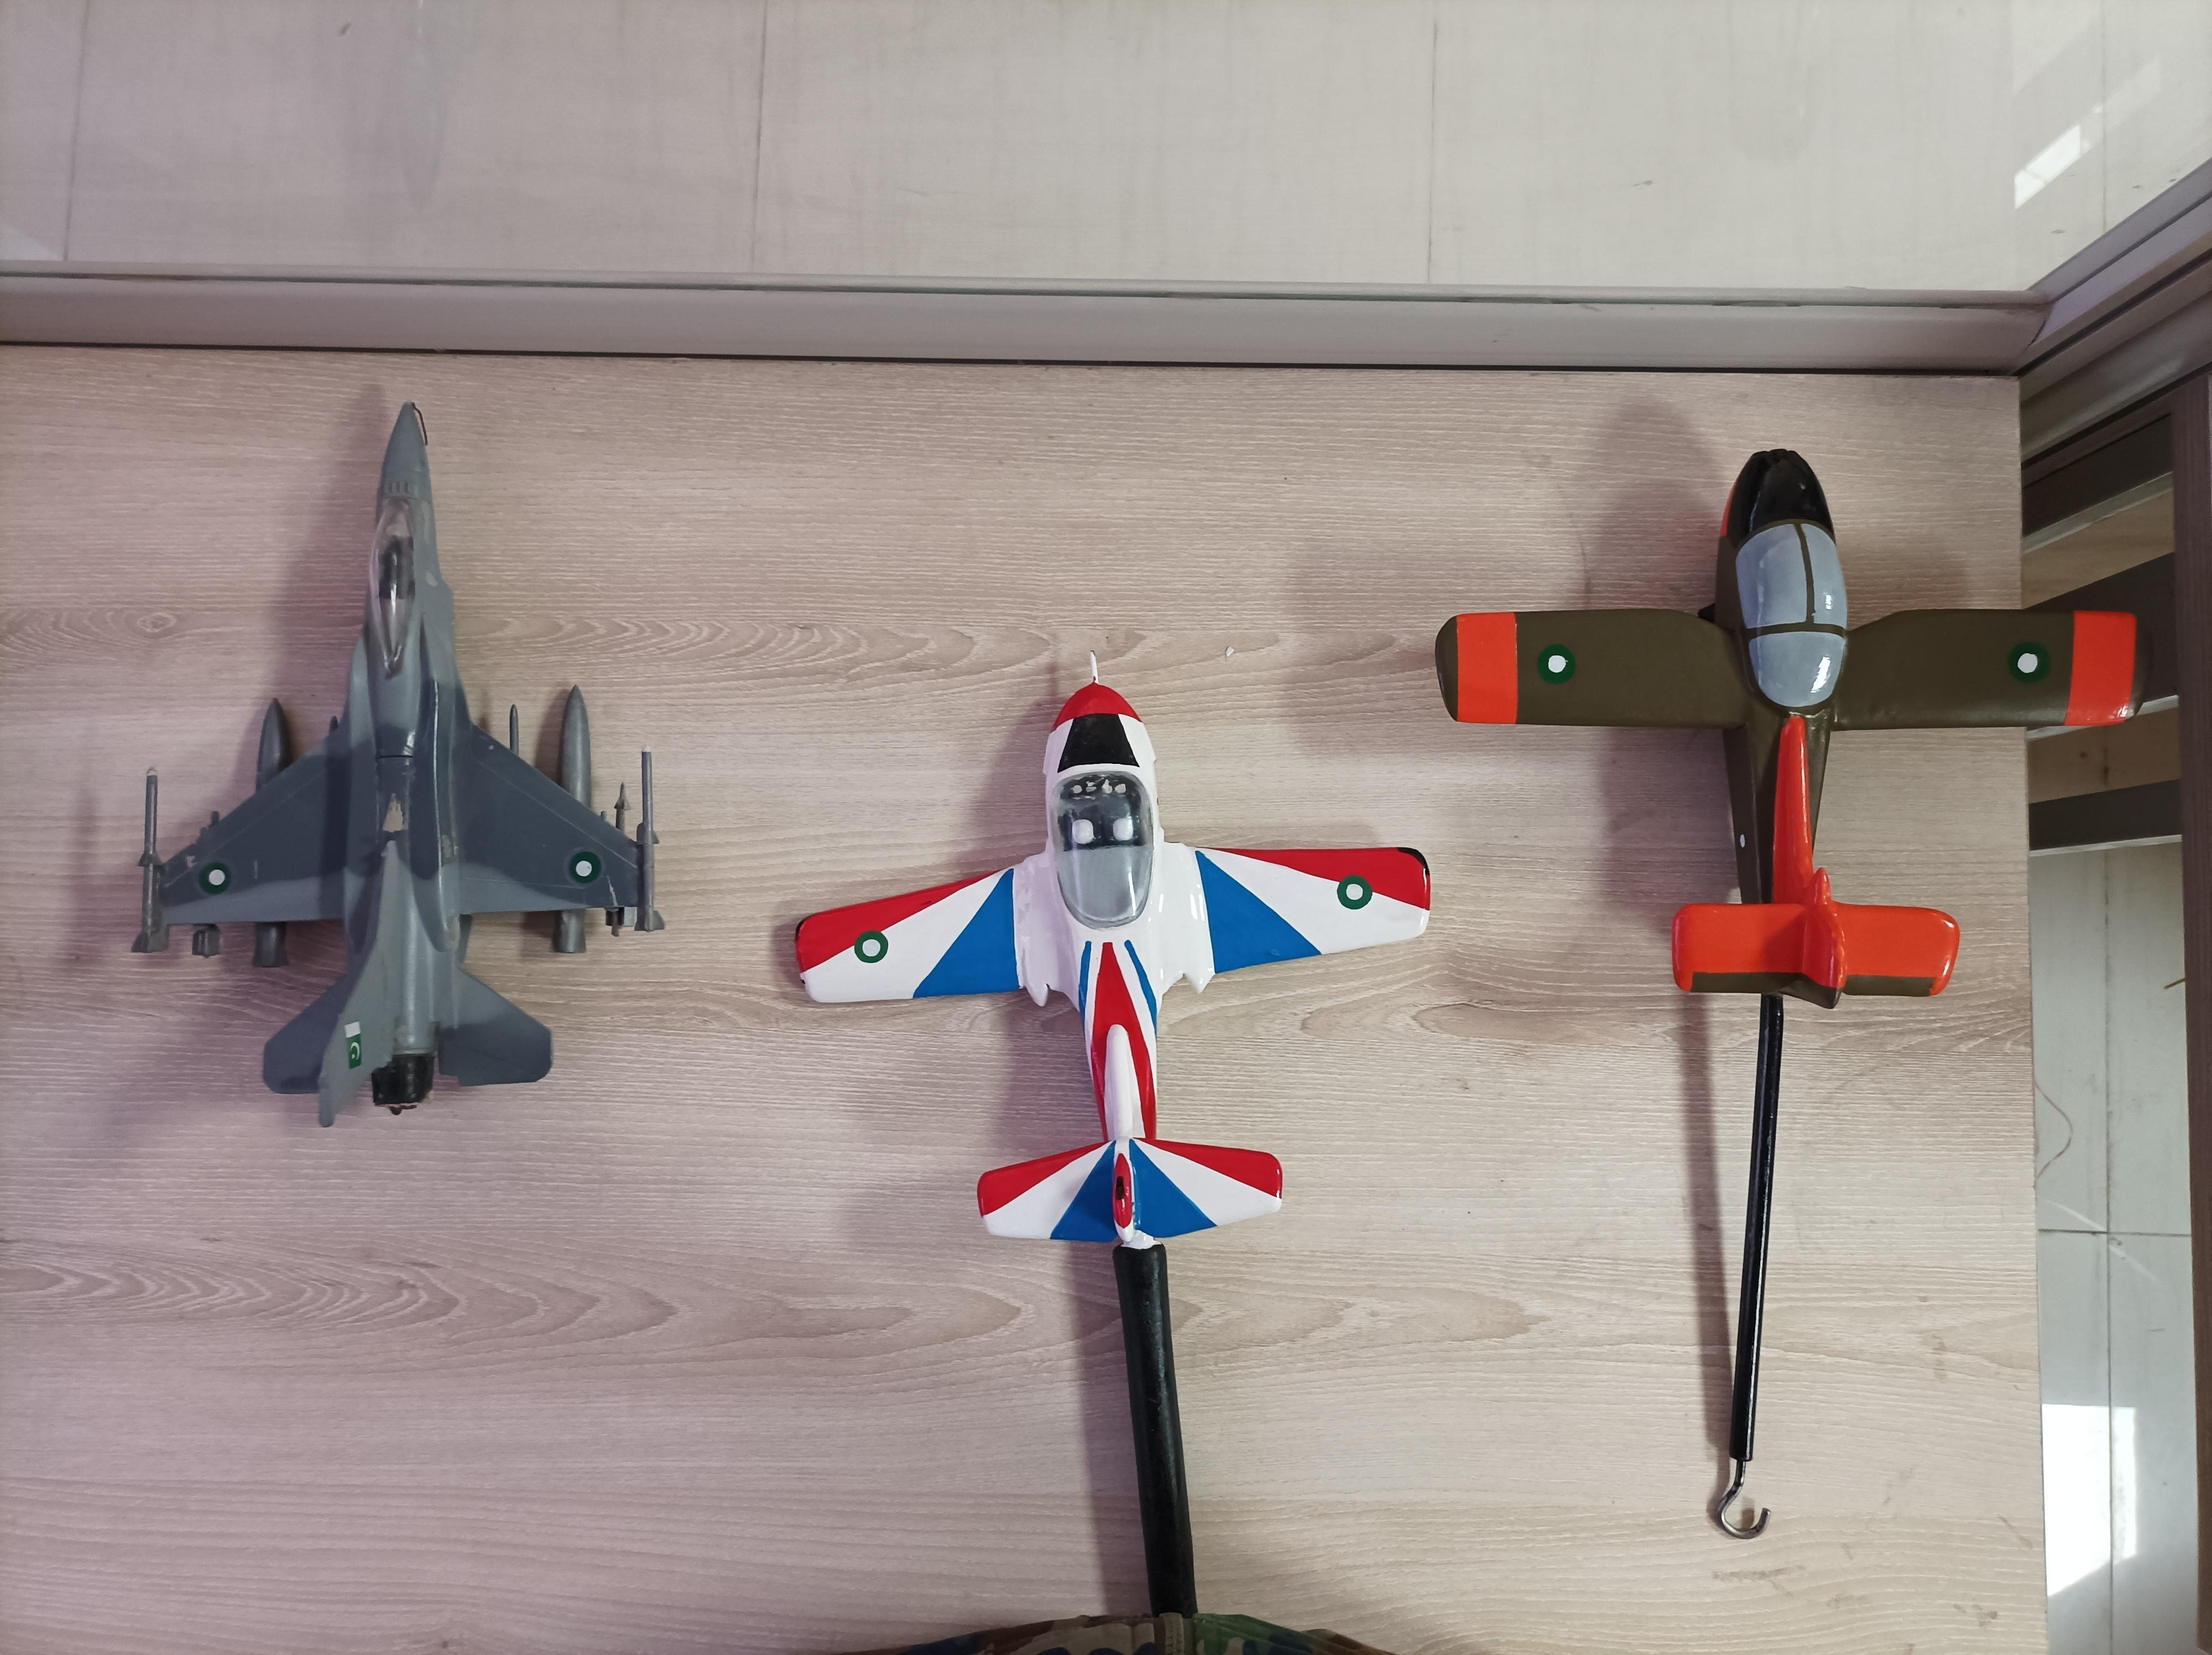Airplane: (1421, 436, 2170, 1024), (761, 647, 1437, 1274), (108, 379, 666, 1132)
